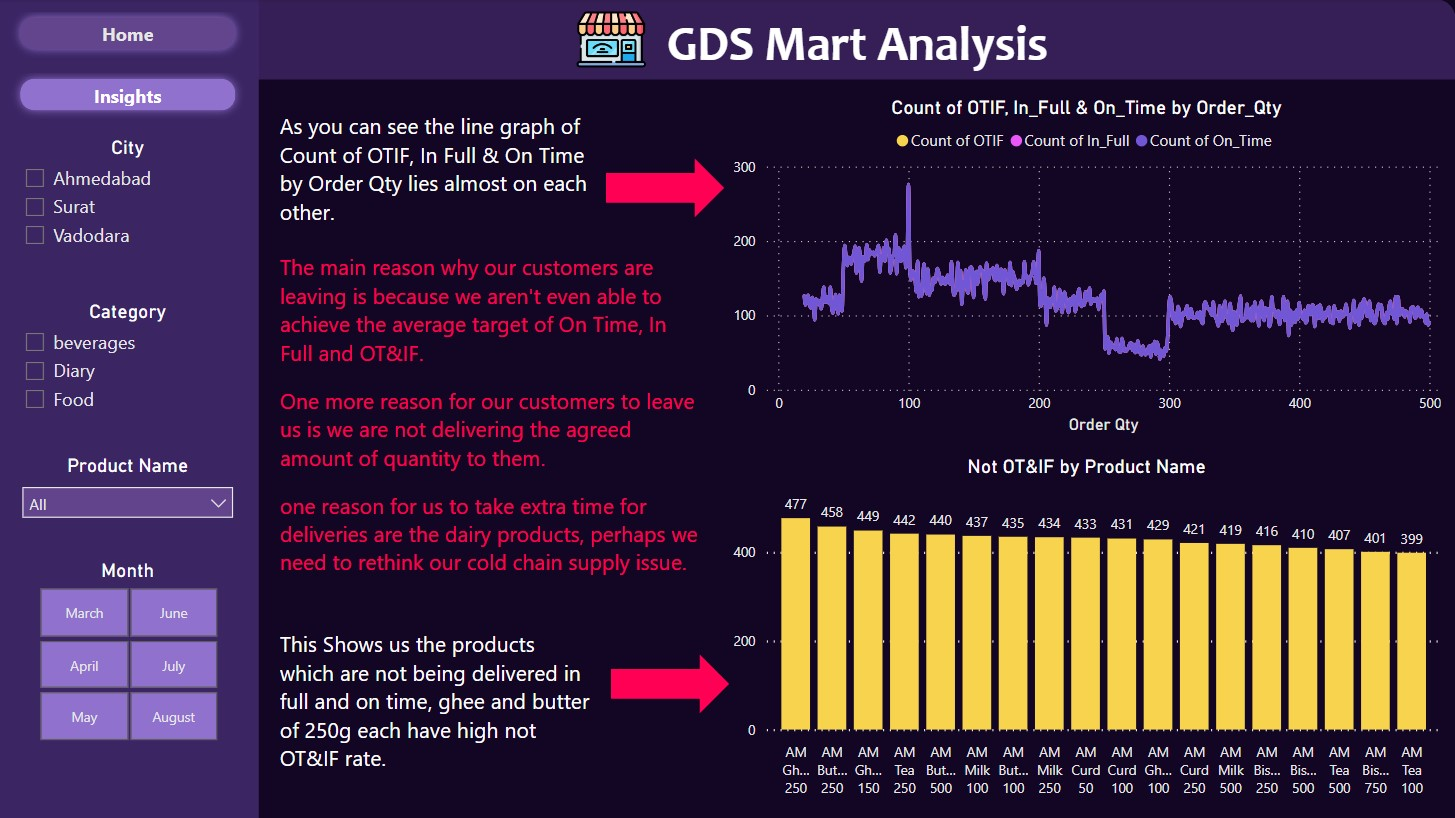

The page's visual inventory and layout, read from the dashboard file:
{"tool":"powerbi","page":{"name":"Insights","canvas":[1280,720],"ordinal":1},"visuals":[{"type":"shape","box":[181.7,0,1098.3,70.9],"z":0},{"type":"shape","box":[0,0,229.4,720.2],"z":1000},{"type":"clusteredColumnChart","title":"Not OT&IF by Product Name","fields":{"Category":["dim_products.product_name"],"Y":["fact_orders_aggregate.Not OT&IF"]},"box":[640.5,400.4,631.7,308.1],"z":2000},{"type":"lineChart","title":"Count of OTIF, In_Full & On_Time by Order_Qty","fields":{"Category":["fact_order_lines.order_qty"],"Y":["CountNonNull(fact_orders_aggregate.otif)","CountNonNull(fact_orders_aggregate.in_full)","CountNonNull(fact_orders_aggregate.on_time)"]},"box":[640.5,85.5,631.7,301.3],"z":3000},{"type":"slicer","title":"City","fields":{"Values":["dim_customers.city"]},"box":[11.7,120.5,205.1,116.6],"z":4000},{"type":"slicer","title":"Category","fields":{"Values":["dim_products.category"]},"box":[11.7,264.4,205.1,115.7],"z":5000},{"type":"slicer","title":"Product Name","fields":{"Values":["dim_products.product_name"]},"box":[11.7,399.5,205.1,78.7],"z":6000},{"type":"slicer","title":"Month","fields":{"Values":["dim_date.mmm_yy"]},"box":[11.7,491.8,205.1,166.2],"z":7000},{"type":"pageNavigator","box":[11.7,7.8,205.1,99.1],"z":8000},{"type":"textbox","box":[229.4,7.8,1050.6,63.2],"z":9000},{"type":"image","box":[489.8,0,96.2,70.9],"z":10000},{"type":"textbox","box":[242,217.7,382.9,324.6],"z":11000},{"type":"textbox","box":[242,549.1,282.8,137],"z":12000},{"type":"shape","box":[538.4,575.4,104,52.5],"z":13000},{"type":"textbox","box":[242,94.3,292.5,111.8],"z":14000},{"type":"shape","box":[533.6,140,104,52.5],"z":15000}]}

Visuals, with their boxes in screenshot pixels (x1, y1, x2, y2), scaled from the page's 1280x720 canvas onto the 1455x818 screenshot:
shape: locate(207, 0, 1454, 81)
shape: locate(0, 0, 261, 817)
"Not OT&IF by Product Name" clusteredColumnChart: locate(728, 455, 1446, 805)
"Count of OTIF, In_Full & On_Time by Order_Qty" lineChart: locate(728, 97, 1446, 439)
"City" slicer: locate(13, 137, 246, 269)
"Category" slicer: locate(13, 300, 246, 432)
"Product Name" slicer: locate(13, 454, 246, 543)
"Month" slicer: locate(13, 559, 246, 748)
pageNavigator: locate(13, 9, 246, 121)
textbox: locate(261, 9, 1454, 81)
image: locate(557, 0, 666, 81)
textbox: locate(275, 247, 710, 616)
textbox: locate(275, 624, 597, 779)
shape: locate(612, 654, 730, 713)
textbox: locate(275, 107, 608, 234)
shape: locate(607, 159, 725, 219)
